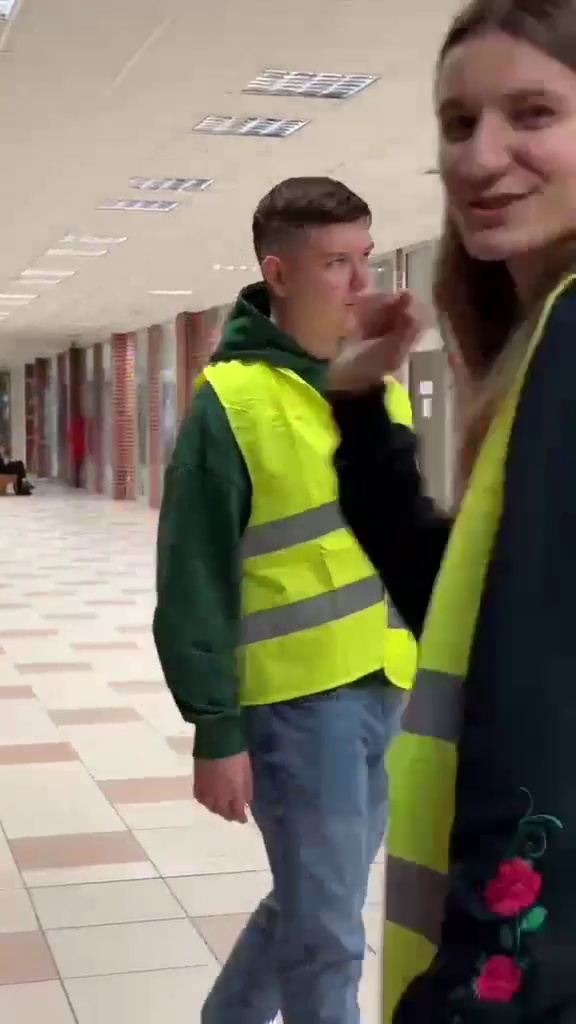vest: (157, 173, 419, 982), (402, 11, 573, 989)
